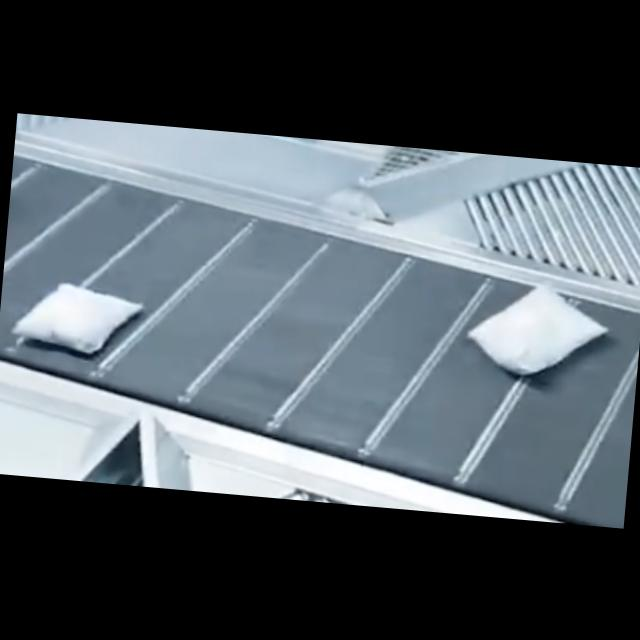mailer: (469, 274, 605, 382), (8, 279, 144, 358)
